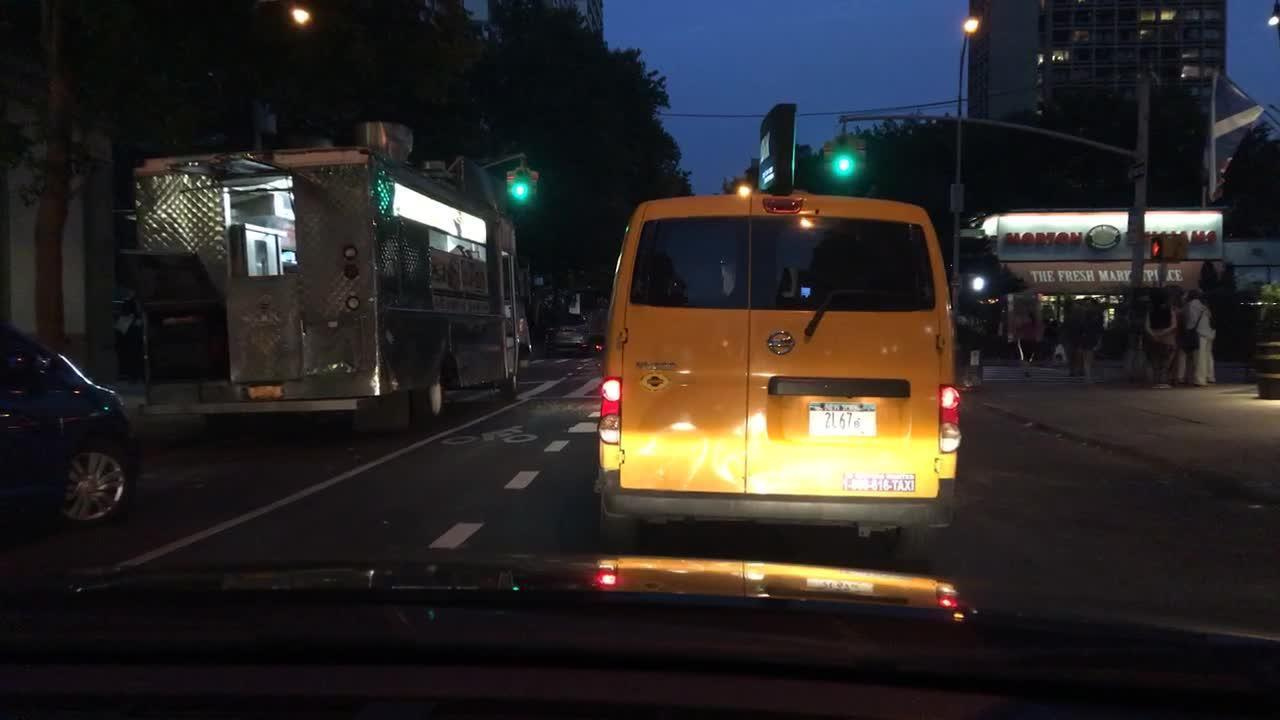Nissan: (760, 321, 806, 365)
